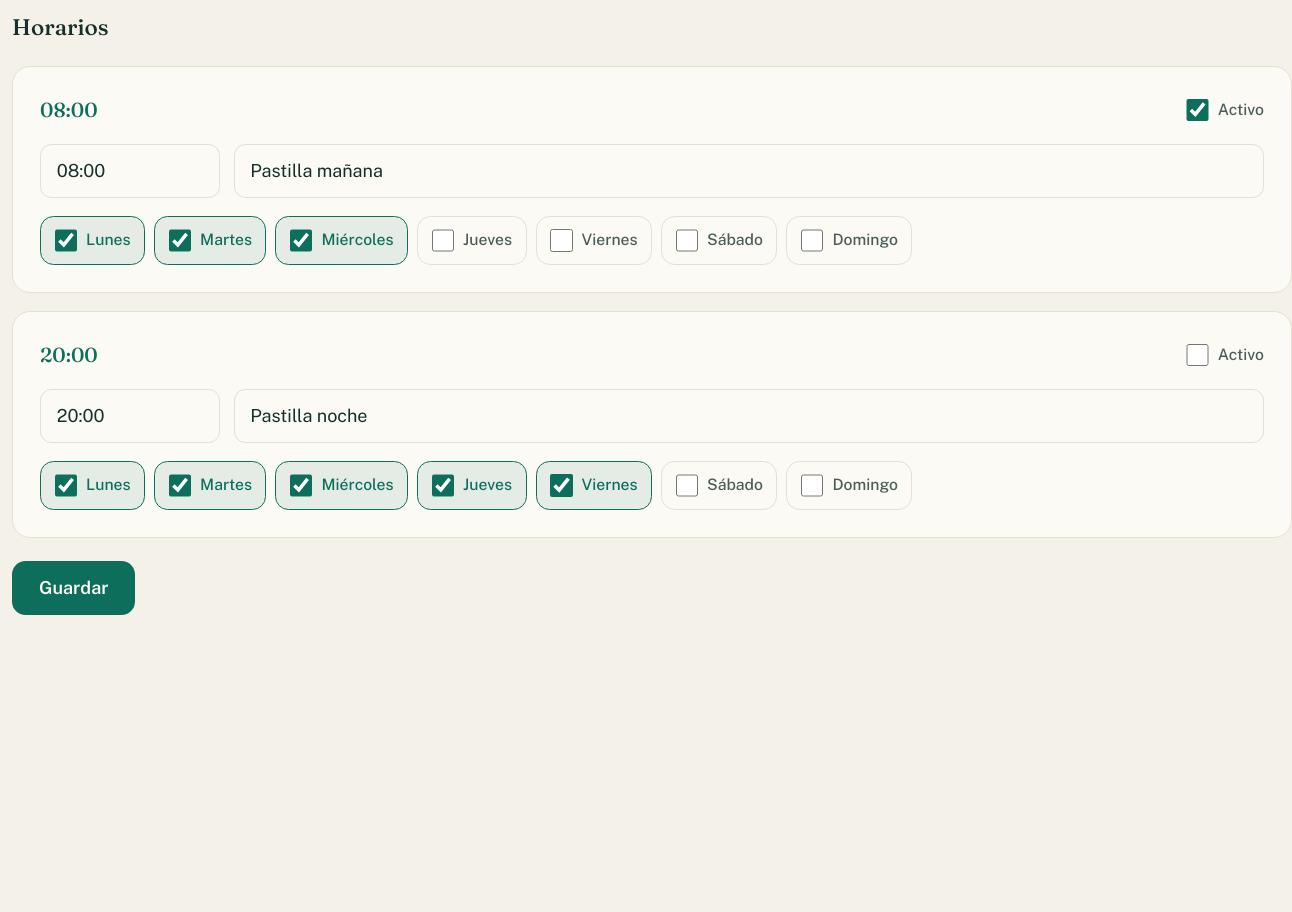
it: ScheduleView › shows 422 error message when API returns 422
Step 1. Click the button "Guardar" → (74, 588), box [12, 560, 136, 614]
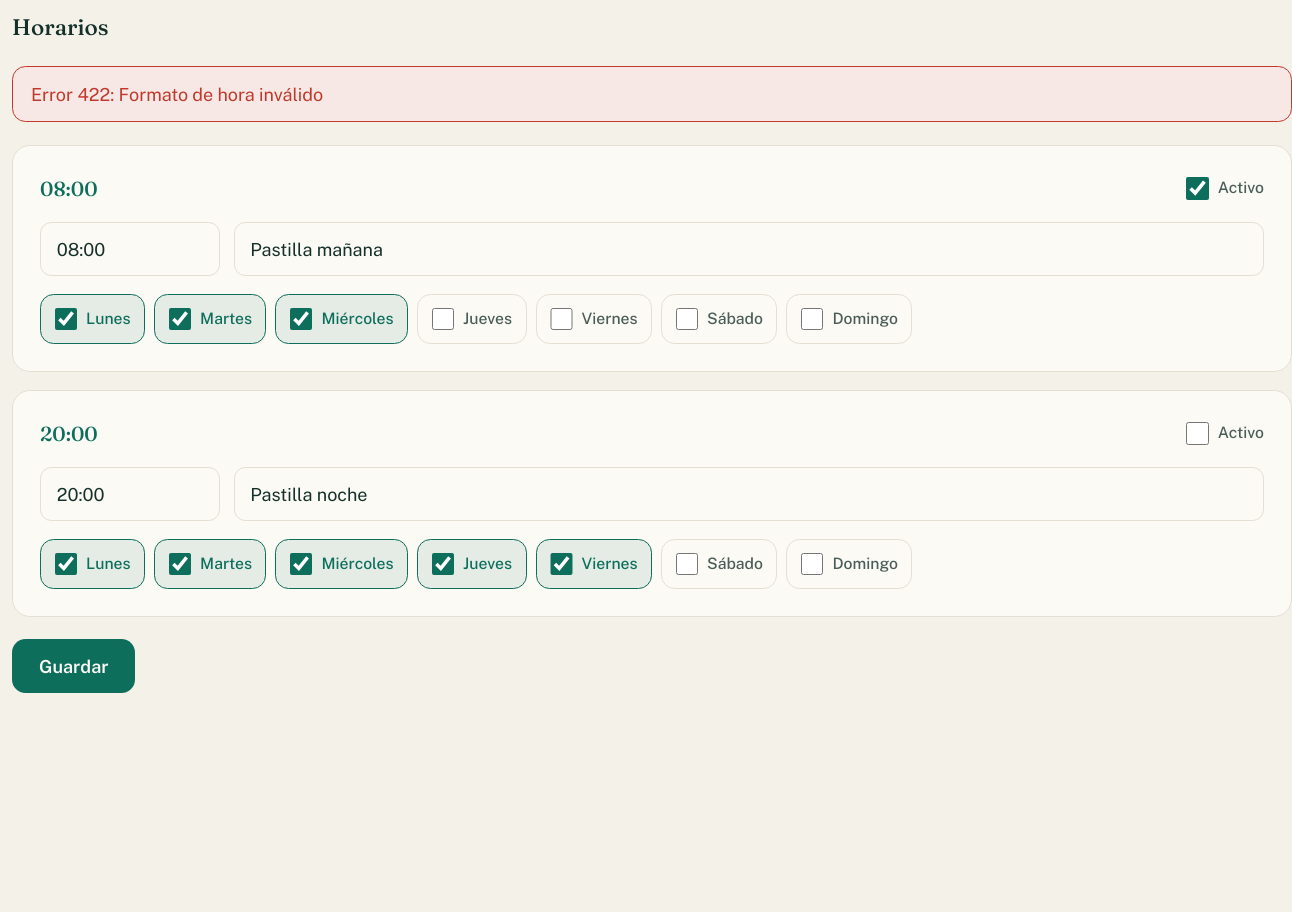
expect the text "Error 422: Formato de hora inválido" is shown: met, box [12, 66, 1291, 122]
